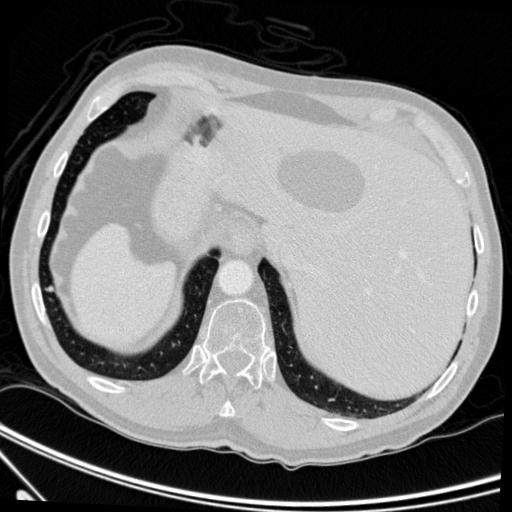nodule: (47, 283, 59, 295)
